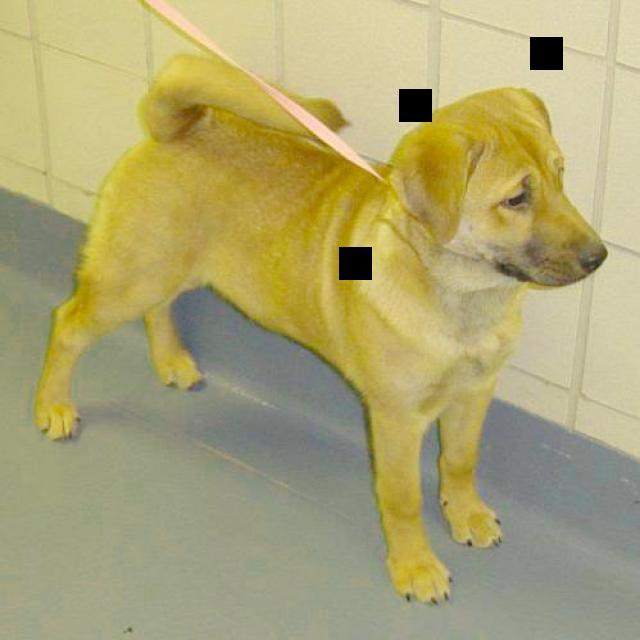adult_dog: (27, 42, 610, 609)
